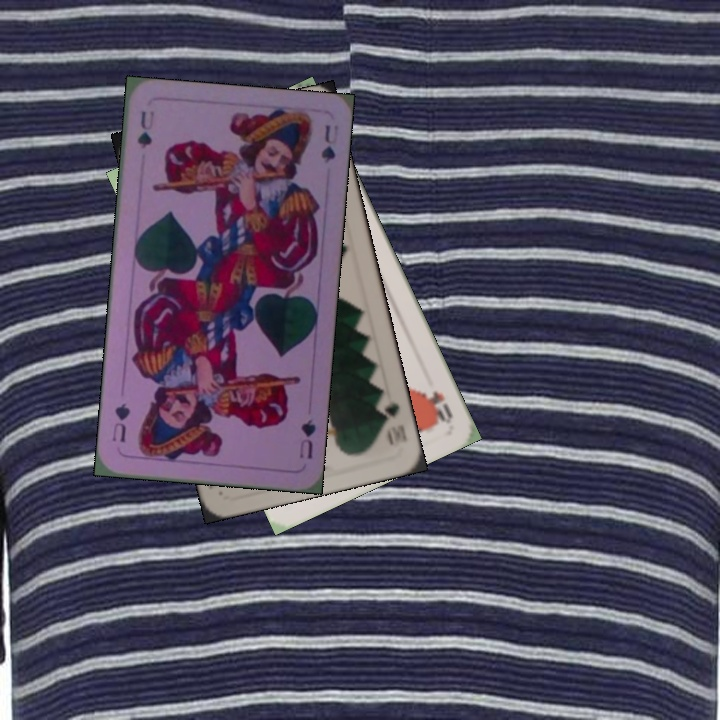G10: (374, 393, 402, 448)
GU: (295, 415, 319, 461), (133, 106, 157, 151)
HO: (421, 387, 455, 427)
